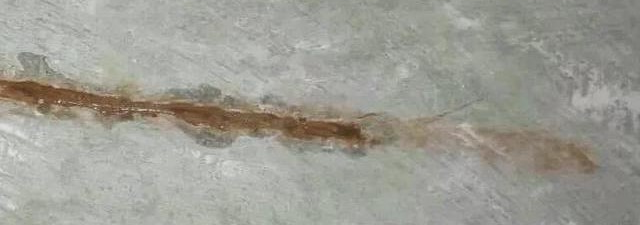Exposed reinforcement: (1, 78, 362, 140)
